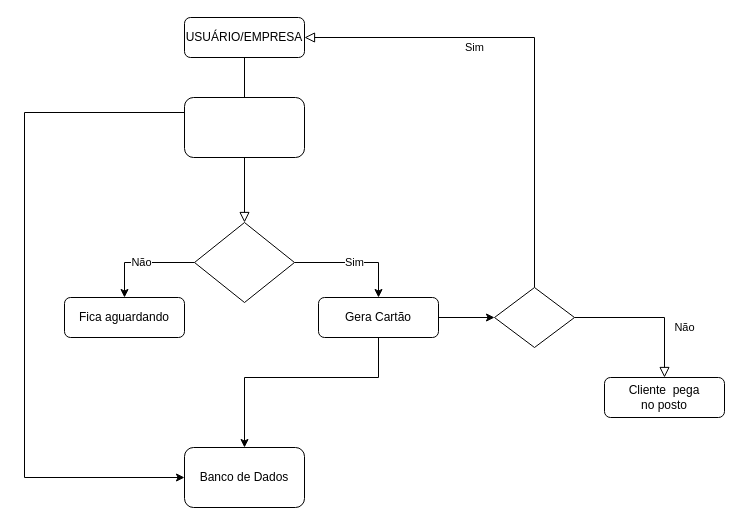
Some shapes in this 742 by 525 pixel diagram are drawn without their labels. The shapes that lost their labels are listed below. From the top down, each one's centre as x and y in pixels, then its label:
(244,127): Acessa o site PF Cria usuário Solicita cartão Gera boleto
(244,262): Pagou Boleto?
(534,317): Receber?
